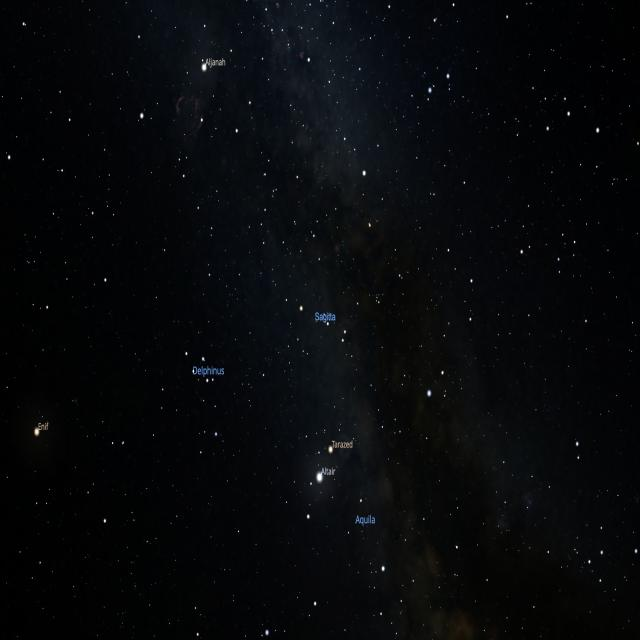Sagitta: (284, 294, 348, 346)
